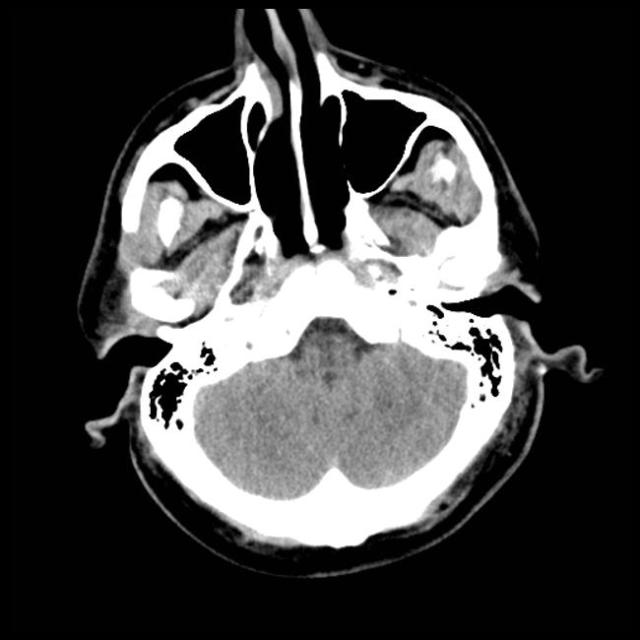lesion: (72, 9, 600, 579)
